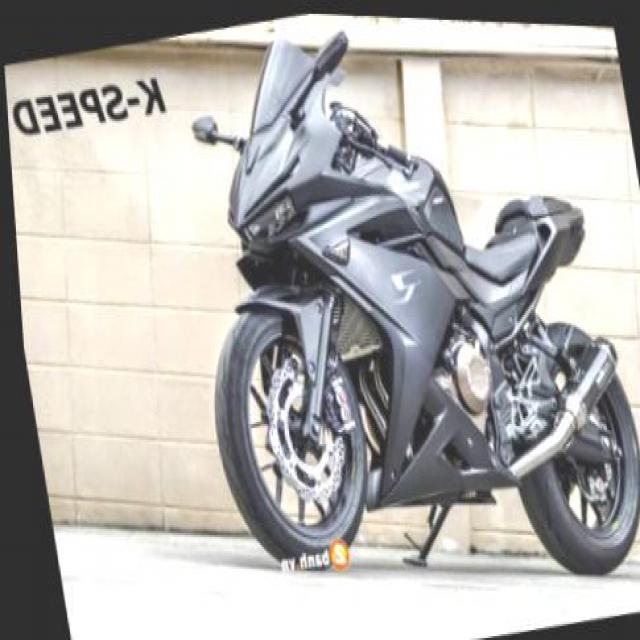CBR500R: (147, 4, 638, 638)
